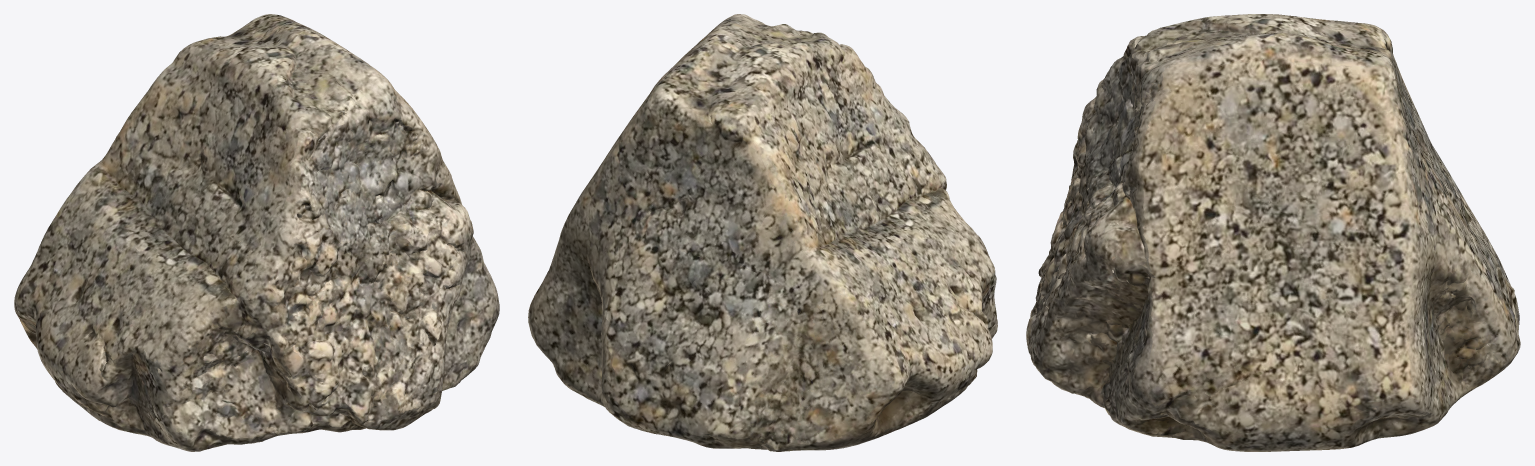
Rendered from eroded-granite-v10.glb.
The picture shows the model from 3 angles, left to right: view 1: azimuth 30°, elevation 25°; view 2: azimuth 150°, elevation 25°; view 3: azimuth 270°, elevation 25°; orthographic projection. The views are drawn at different scales.
Parts seen in each view (by area): view 1: geometry_0; view 2: geometry_0; view 3: geometry_0.
Part boxes in pixels (x1,y1,x2,y2): geometry_0: [14, 14, 499, 451]; geometry_0: [528, 14, 997, 451]; geometry_0: [1026, 14, 1520, 451].
Size of the model in its own units: 0.18 by 0.1428 by 0.1792.
Materials: 1 (1 with a texture image).
